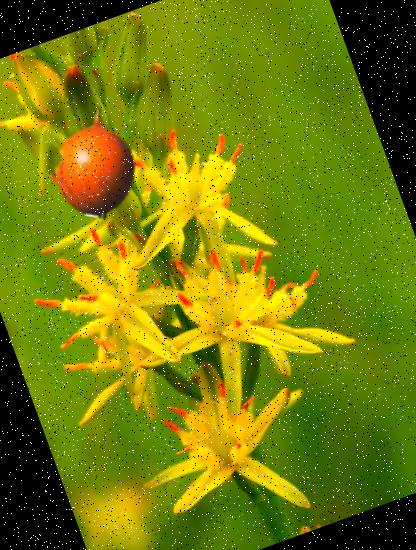Granadilla: (24, 86, 170, 232)
